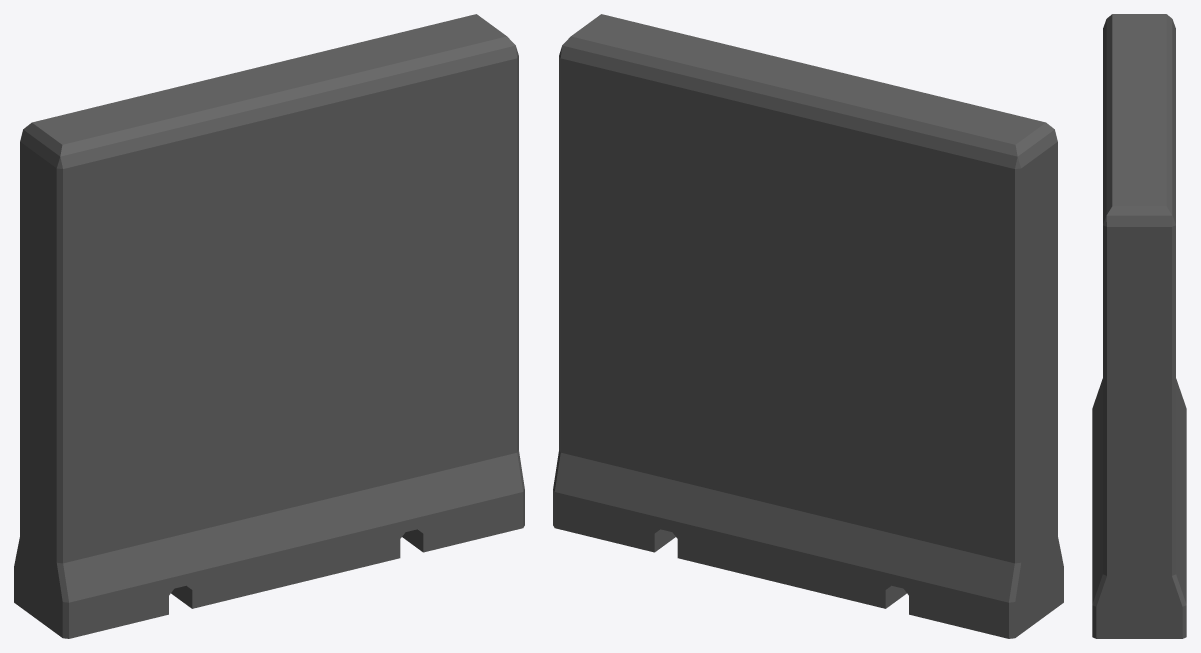
File: barricade1_tall.fbx
3 renders of one model, left to right at view 1: azimuth 30°, elevation 25°; view 2: azimuth 150°, elevation 25°; view 3: azimuth 270°, elevation 25°, orthographic. The views are drawn at different scales.
Parts seen in each view (by area): view 1: Cube.008; view 2: Cube.008; view 3: Cube.008.
Boxes of the visible parts, bbox=[...] form: Cube.008: bbox=[14, 14, 524, 638]; Cube.008: bbox=[553, 14, 1063, 638]; Cube.008: bbox=[1092, 14, 1186, 638].
Size of the model in its own units: 400 by 401 by 80.
